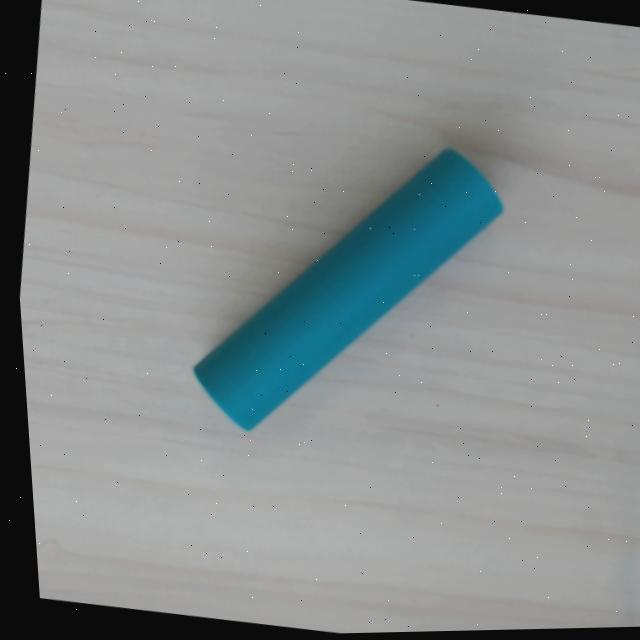Silinder-Hijau-10025: (188, 142, 509, 435)
